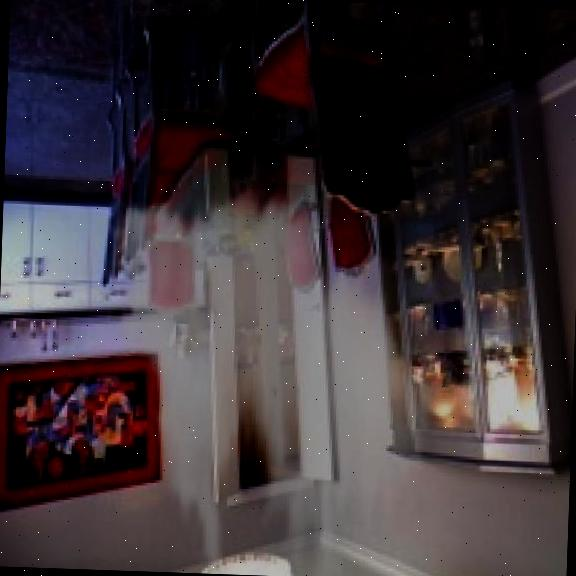smoke: (84, 163, 453, 576)
